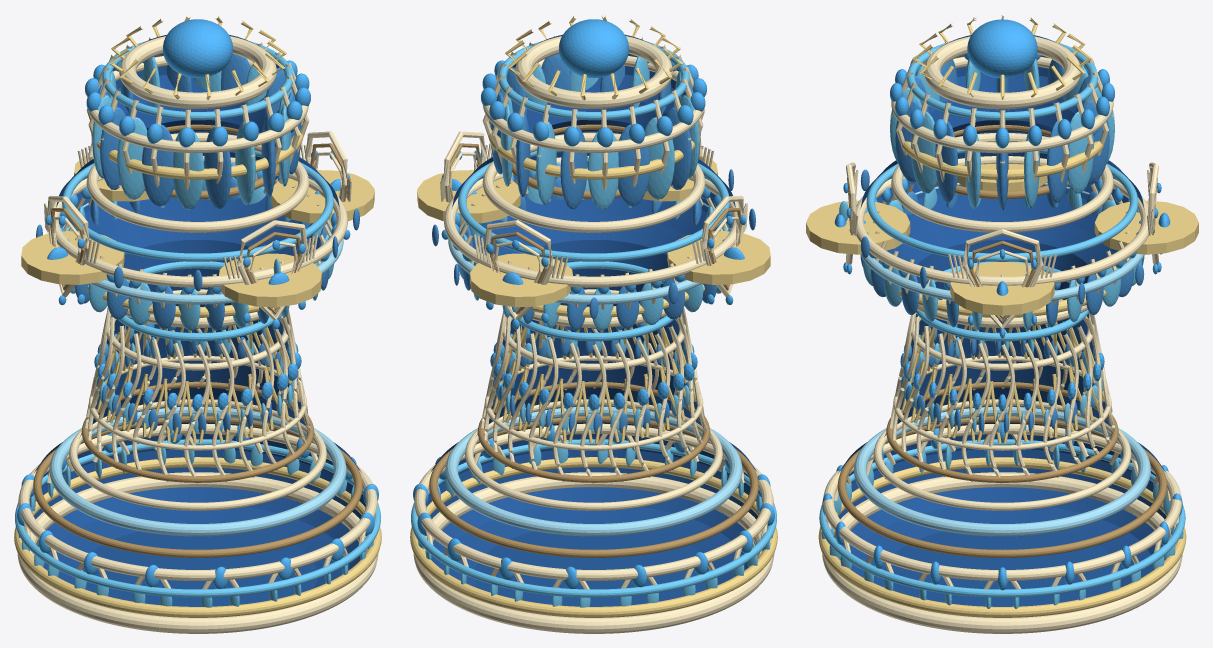
The model's file is Royal_Blue_Token.glb.
The picture shows the model from 3 angles, left to right: view 1: azimuth 30°, elevation 25°; view 2: azimuth 150°, elevation 25°; view 3: azimuth 270°, elevation 25°; orthographic projection.
Parts seen in each view (by area): view 1: blue_jewel_material_1, blue_jewel_material_0, blue_jewel_material_3, blue_jewel_material_2, blue_jewel_material_7, blue_jewel_material_6, blue_jewel_material_4, blue_jewel_material_5; view 2: blue_jewel_material_1, blue_jewel_material_0, blue_jewel_material_2, blue_jewel_material_3, blue_jewel_material_7, blue_jewel_material_6, blue_jewel_material_4, blue_jewel_material_5; view 3: blue_jewel_material_1, blue_jewel_material_0, blue_jewel_material_2, blue_jewel_material_3, blue_jewel_material_7, blue_jewel_material_6, blue_jewel_material_4, blue_jewel_material_5.
Boxes of the visible parts, <box> form: blue_jewel_material_1: <box>17,36,378,633</box>; blue_jewel_material_0: <box>29,35,365,606</box>; blue_jewel_material_3: <box>15,41,380,607</box>; blue_jewel_material_2: <box>14,16,381,617</box>; blue_jewel_material_7: <box>17,19,378,588</box>; blue_jewel_material_6: <box>36,54,359,434</box>; blue_jewel_material_4: <box>33,124,362,557</box>; blue_jewel_material_5: <box>49,187,346,536</box>; blue_jewel_material_1: <box>413,36,774,633</box>; blue_jewel_material_0: <box>426,34,762,606</box>; blue_jewel_material_2: <box>410,15,777,617</box>; blue_jewel_material_3: <box>411,41,776,607</box>; blue_jewel_material_7: <box>413,19,774,588</box>; blue_jewel_material_6: <box>432,54,755,434</box>; blue_jewel_material_4: <box>429,124,758,557</box>; blue_jewel_material_5: <box>445,187,742,536</box>; blue_jewel_material_1: <box>822,36,1182,633</box>; blue_jewel_material_0: <box>838,35,1166,606</box>; blue_jewel_material_2: <box>806,15,1198,617</box>; blue_jewel_material_3: <box>819,43,1185,608</box>; blue_jewel_material_7: <box>822,19,1182,590</box>; blue_jewel_material_6: <box>860,59,1144,433</box>; blue_jewel_material_4: <box>837,125,1167,557</box>; blue_jewel_material_5: <box>854,183,1150,536</box>.
Bounding box in the file's own units: 0.558 × 0.865 × 0.558.
